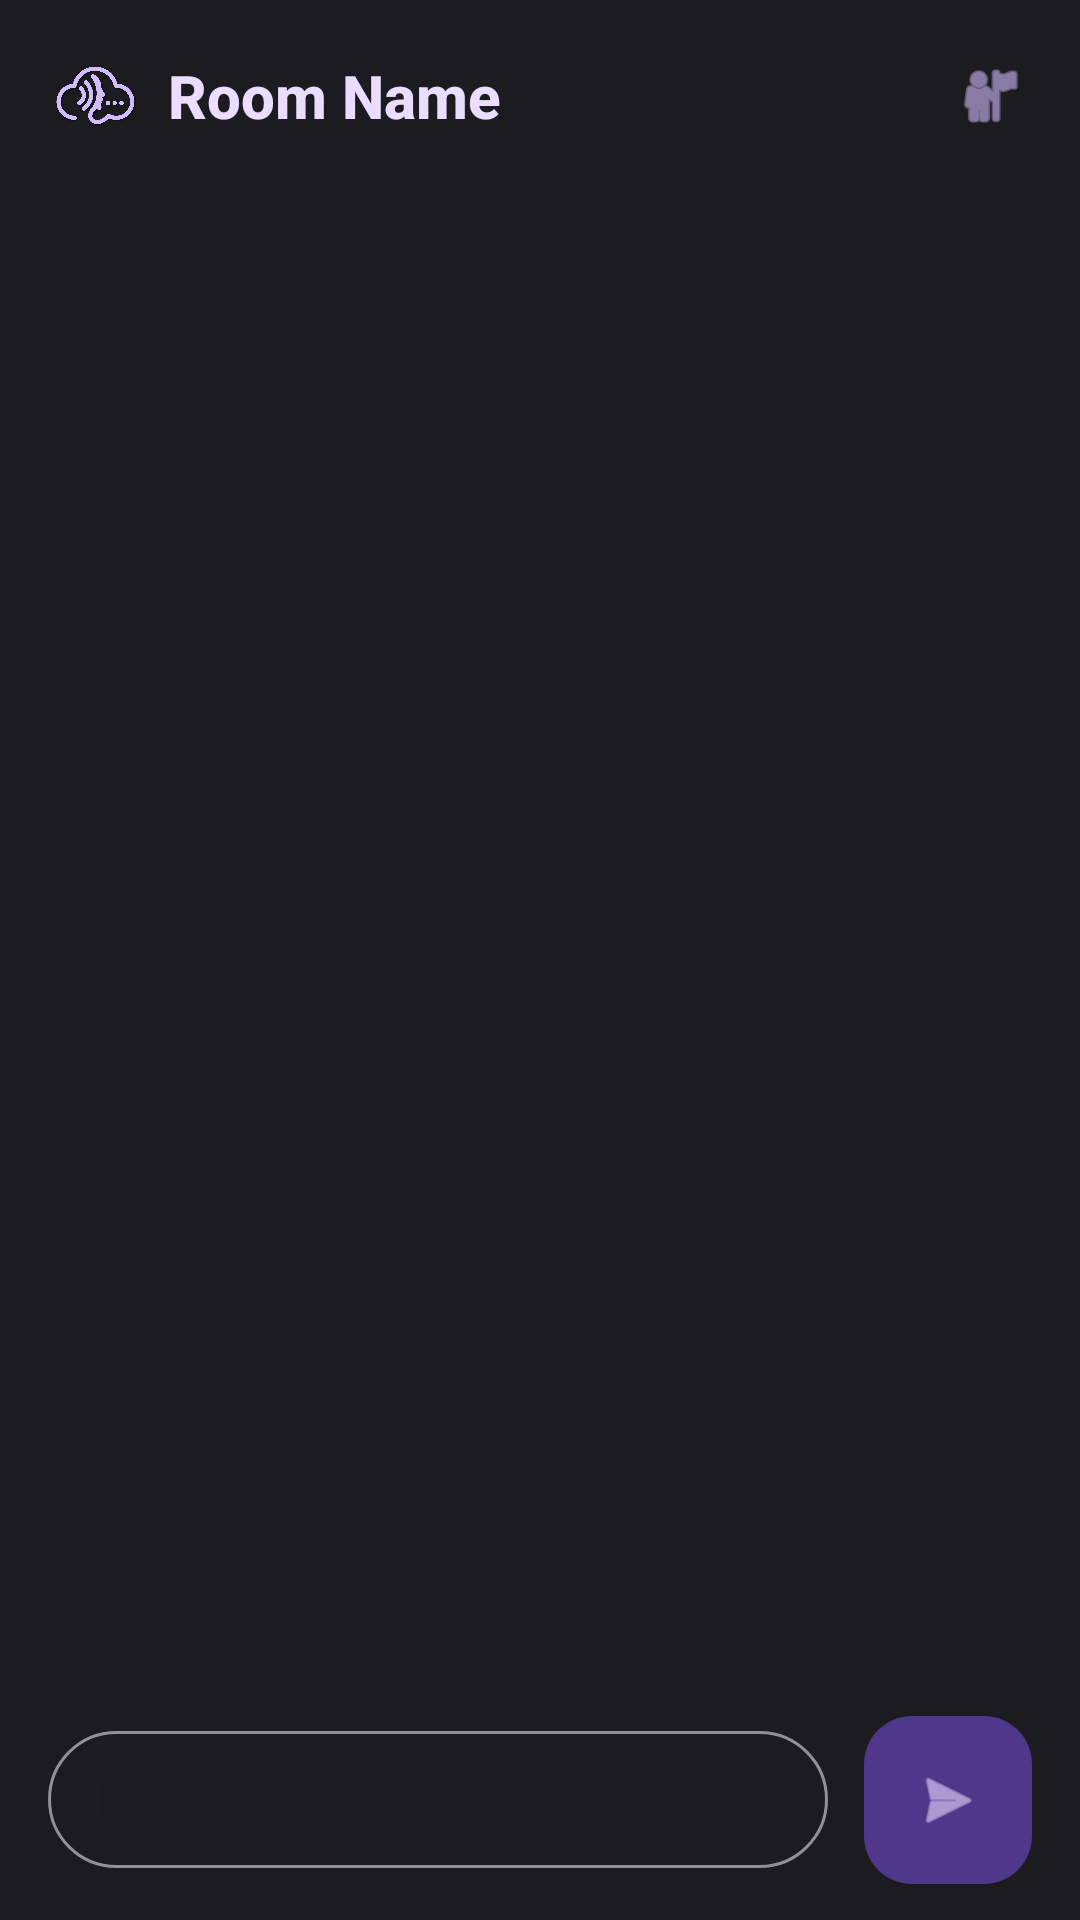

Where to tap for icons on this 1080px x 1920px app screen, as (x=x, y=y):
App Icon: (x=95, y=95)
